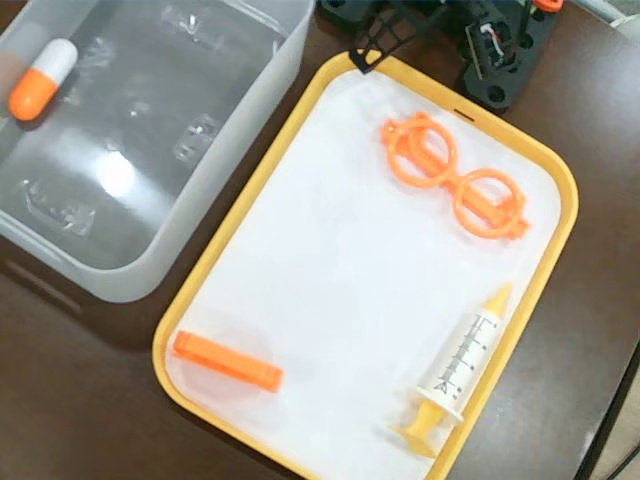pill: (9, 37, 80, 128)
syringe: (390, 283, 510, 460)
